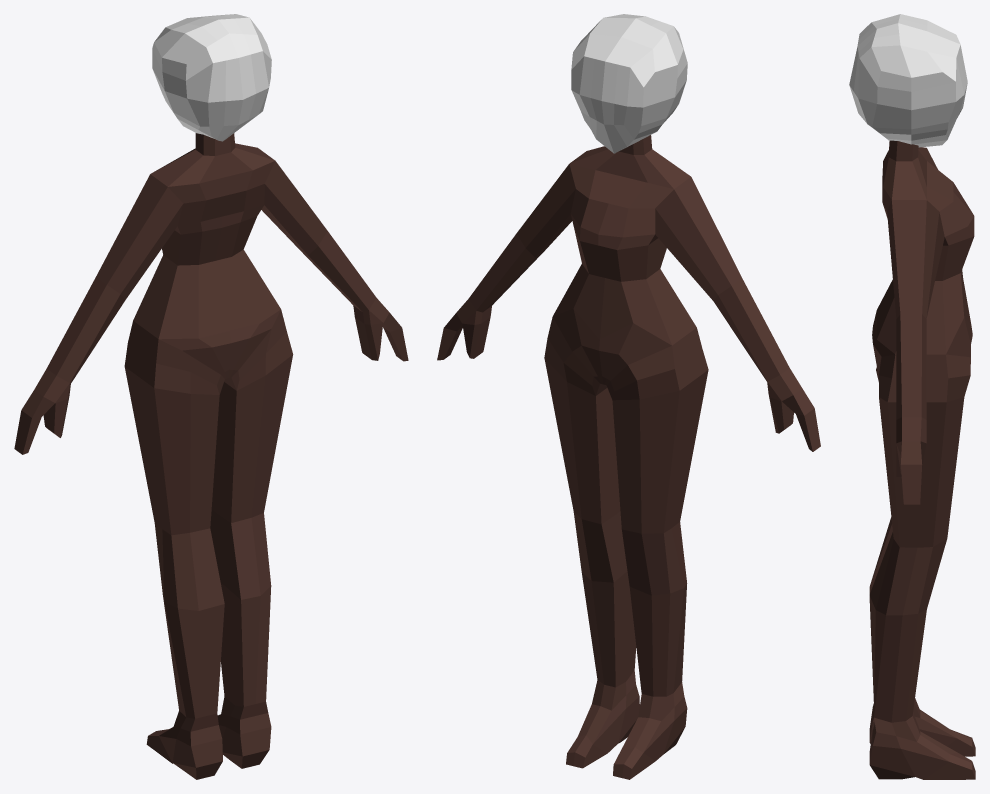
File: TestWomanTwoMaterials.fbx
3 renders of one model, left to right at view 1: azimuth 30°, elevation 25°; view 2: azimuth 150°, elevation 25°; view 3: azimuth 270°, elevation 25°, orthographic. The views are drawn at different scales.
Parts seen in each view (by area): view 1: Cube, Cube.001; view 2: Cube, Cube.001; view 3: Cube, Cube.001.
Boxes of the visible parts, box(x1,y1,x2,y2) form: Cube: box(14, 133, 408, 779); Cube.001: box(152, 14, 271, 141); Cube: box(437, 135, 820, 779); Cube.001: box(571, 14, 687, 153); Cube: box(869, 140, 975, 779); Cube.001: box(849, 14, 967, 147).
Size of the model in its own units: 238 by 440 by 68.06.
